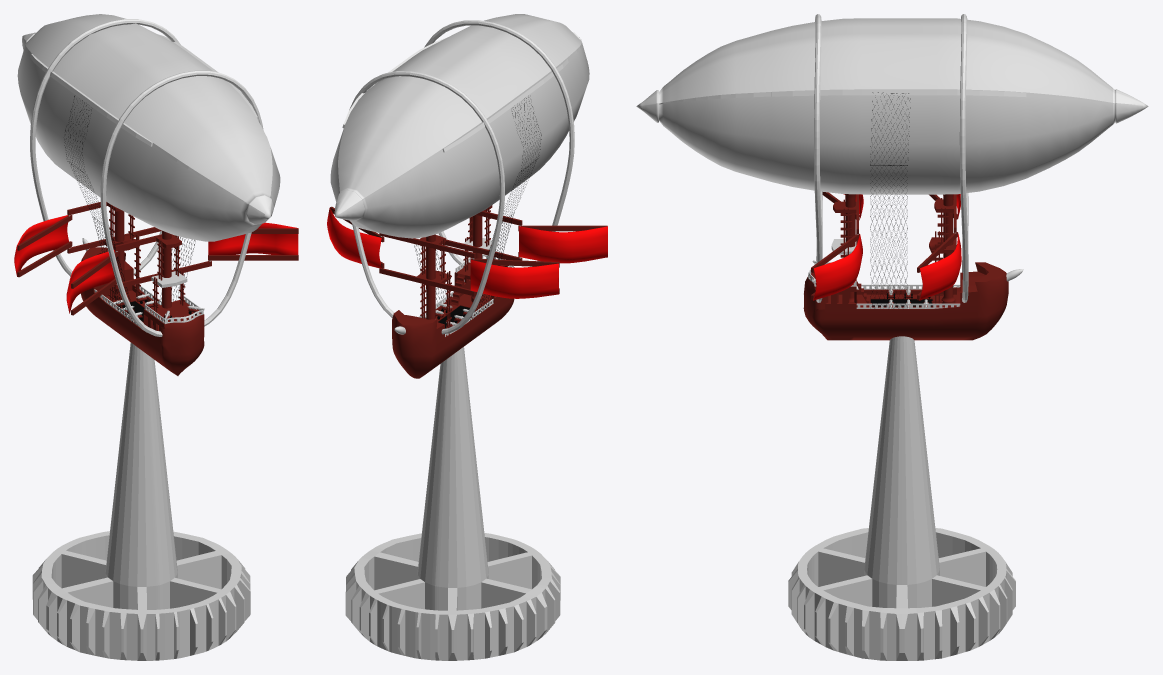
The model's file is RustedAirshipPiece.fbx.
3 views of the same model, side by side, from view 1: azimuth 30°, elevation 25°; view 2: azimuth 150°, elevation 25°; view 3: azimuth 270°, elevation 25° (orthographic). The views are drawn at different scales.
Visible parts, largest first — view 1: RustedAirshipPiece; view 2: RustedAirshipPiece; view 3: RustedAirshipPiece.
Part boxes in pixels (left/top/right/bottom): RustedAirshipPiece: left=14, top=14, right=298, bottom=660; RustedAirshipPiece: left=327, top=14, right=607, bottom=660; RustedAirshipPiece: left=636, top=14, right=1148, bottom=660.
Bounding box in the file's own units: 109 × 254 × 199.
